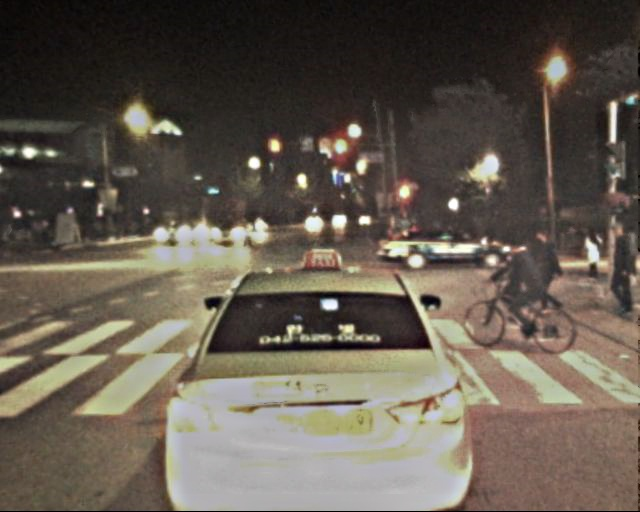person: (505, 241, 545, 339), (597, 225, 636, 320), (531, 224, 565, 307), (577, 224, 605, 292), (621, 226, 640, 272)
